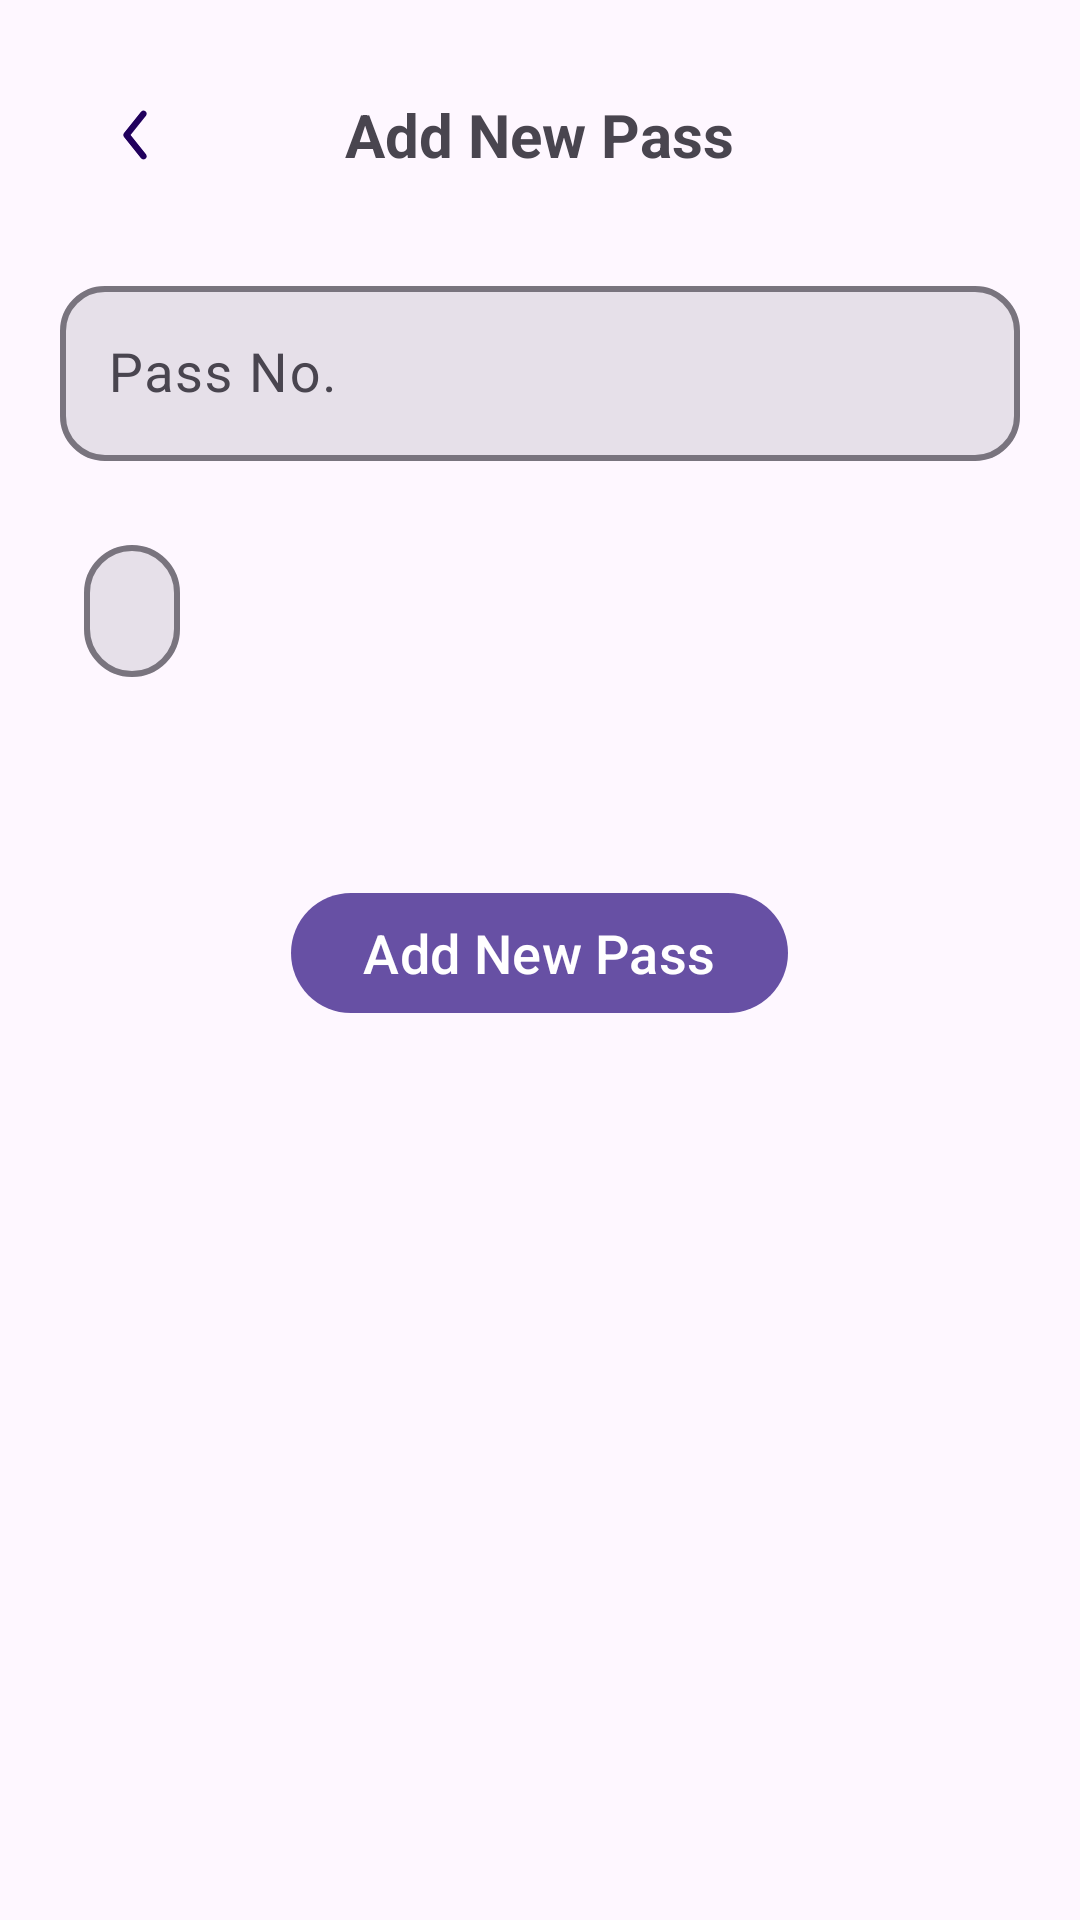

Named icons in this screenshot (1080 x 1920) and their bounding boxes, (x1, y1, x2, y2):
left: (123, 110, 147, 160)
